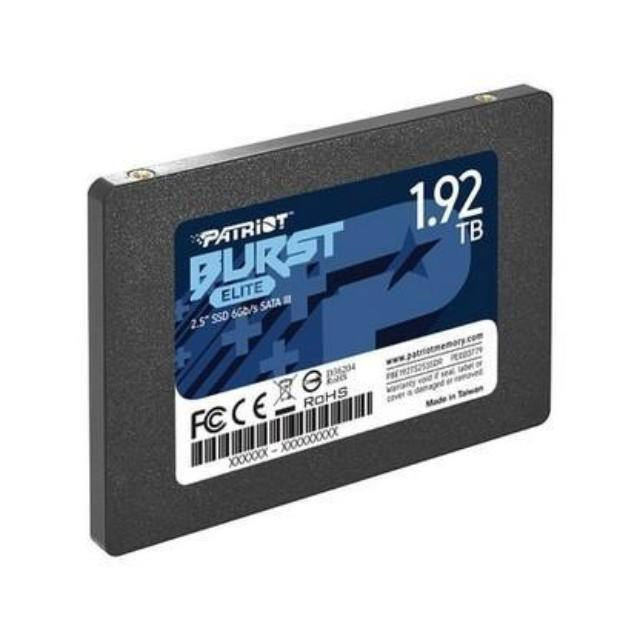DISK: (72, 82, 566, 560)
